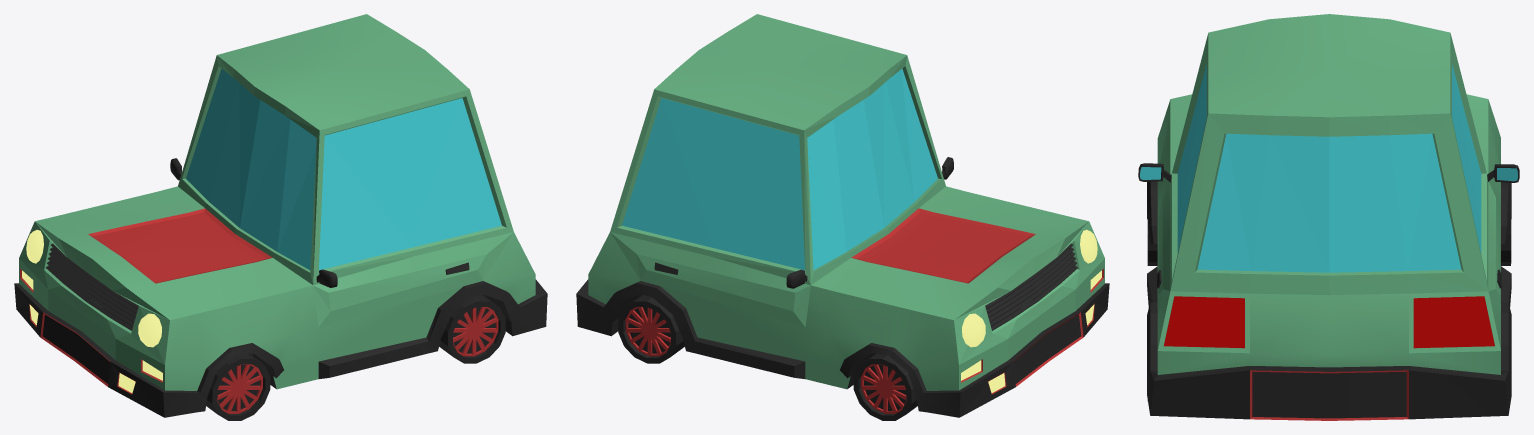
Rendered from coche2.FBX.
The picture shows the model from 3 angles, left to right: view 1: azimuth 30°, elevation 25°; view 2: azimuth 150°, elevation 25°; view 3: azimuth 270°, elevation 25°; orthographic projection. The views are drawn at different scales.
Parts seen in each view (by area): view 1: body, Wheels, engine grille; view 2: body, Wheels, engine grille; view 3: body, Wheels.
Boxes of the visible parts, <box> form: body: <box>14,14,547,417</box>; Wheels: <box>206,294,505,420</box>; engine grille: <box>46,243,138,330</box>; body: <box>576,14,1109,417</box>; Wheels: <box>618,294,917,420</box>; engine grille: <box>985,243,1077,330</box>; body: <box>1138,14,1519,420</box>; Wheels: <box>1147,210,1511,400</box>.
Bounding box in the file's own units: 199 × 119 × 137.
